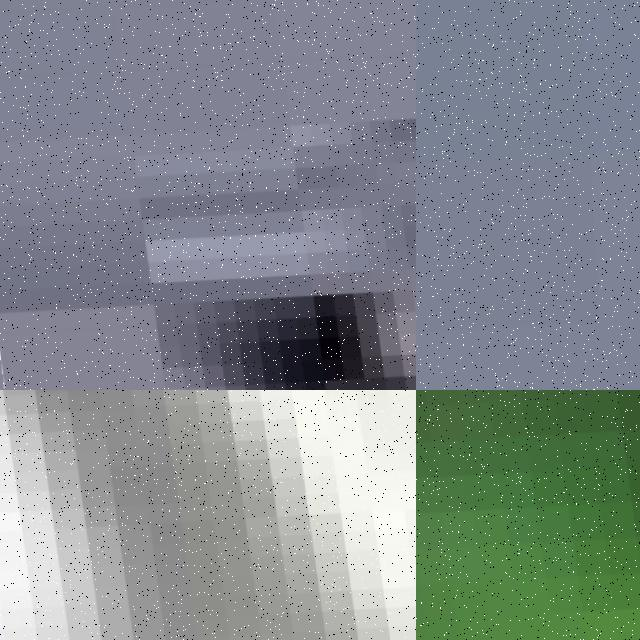drone: (0, 0, 416, 390), (0, 390, 416, 640), (416, 390, 640, 640)
